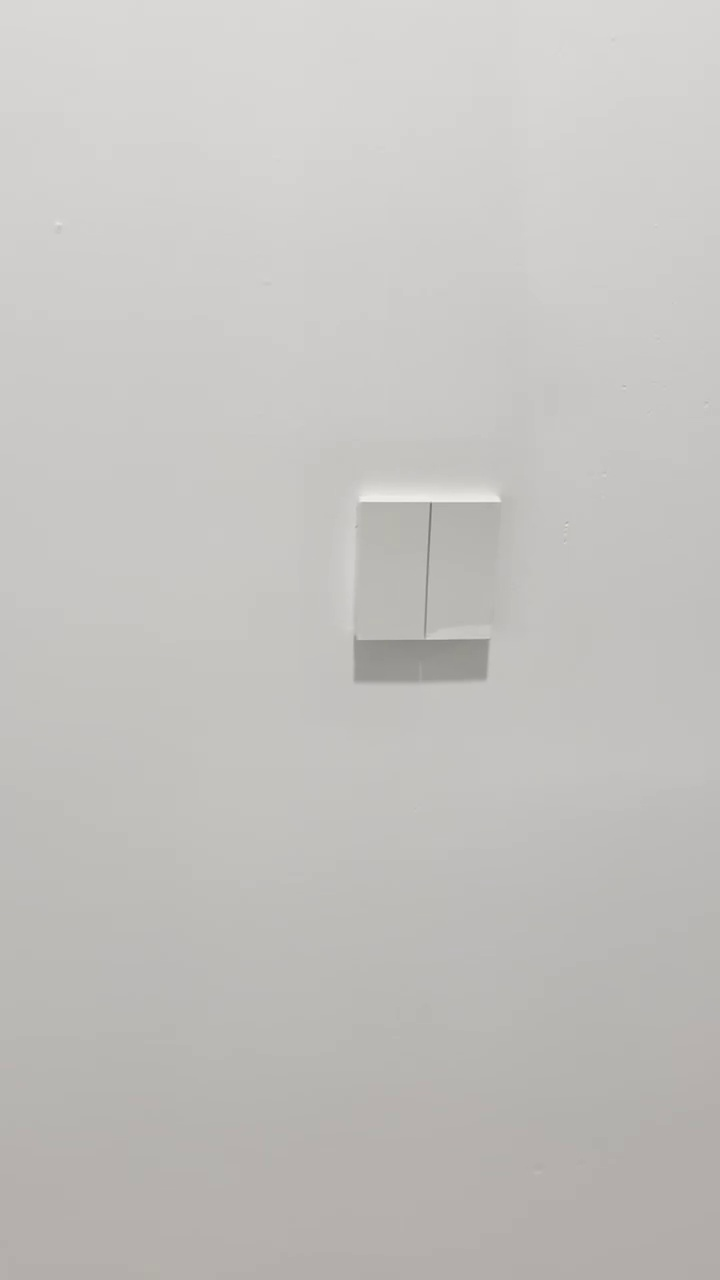button: (350, 491, 510, 646)
